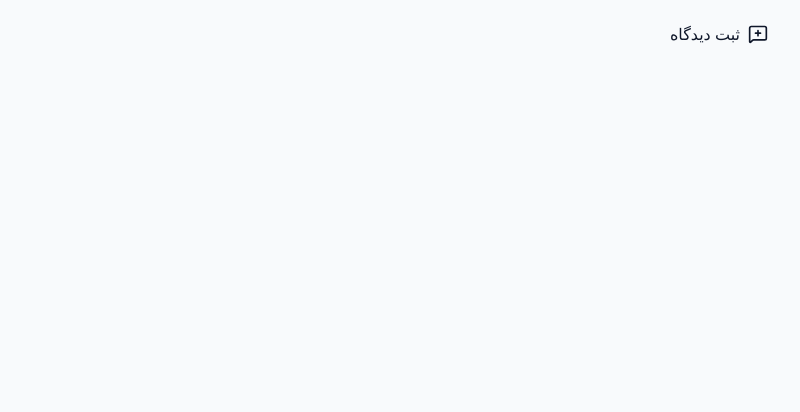
SubjectCommentComposer: a post’s form › a guest gives a name (and may give an e-mail); a signed-in visitor gives neither
Click the button "ثبت دیدگاه".
click(719, 34)  # box [650,12,788,56]
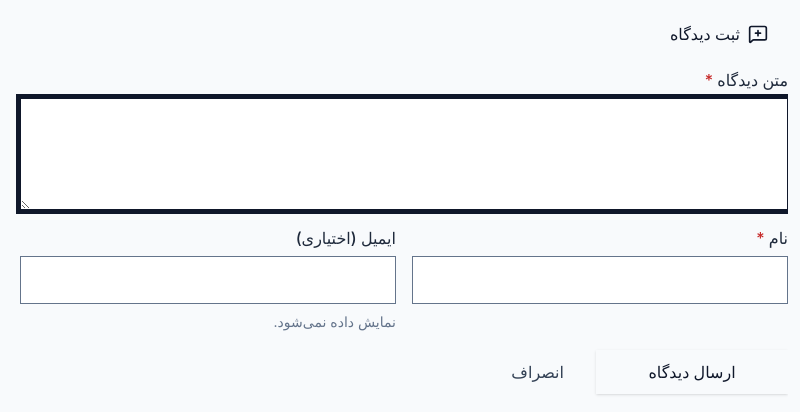
Expected: the field labelled "نام *" is shown, [413,257,787,303]
Expected: the field labelled "ایمیل (اختیاری)" is shown, [21,257,395,303]
